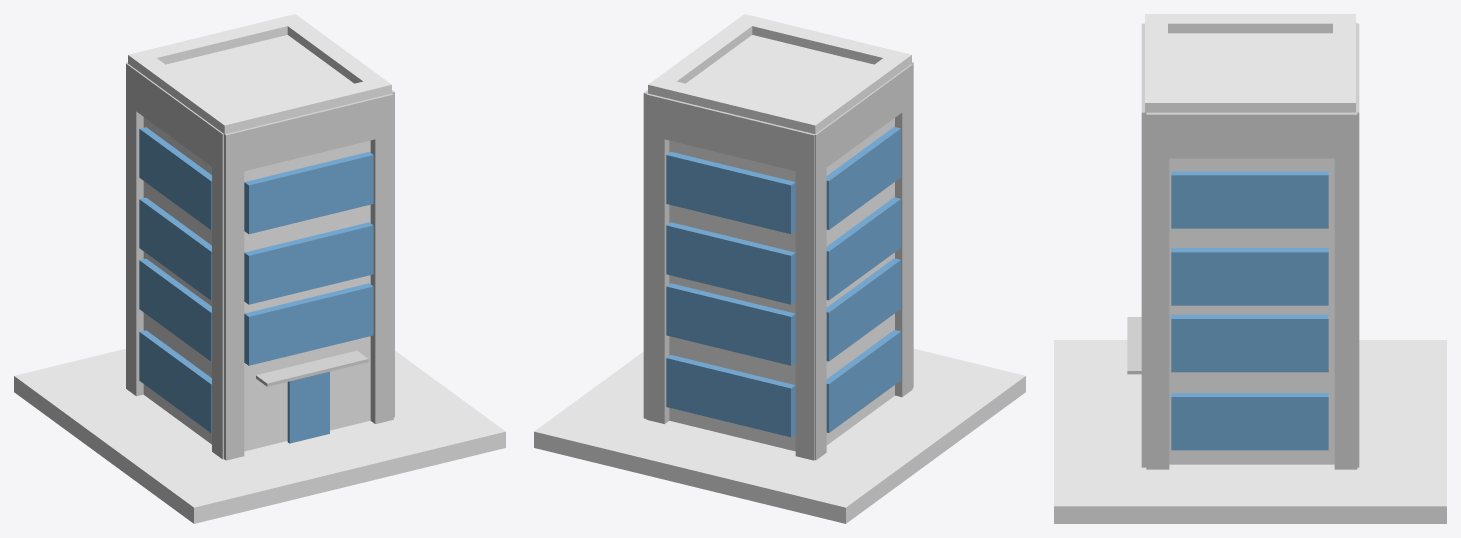
The model's file is building2.glb.
3 renders of one model, left to right at view 1: azimuth 30°, elevation 25°; view 2: azimuth 150°, elevation 25°; view 3: azimuth 270°, elevation 25°, orthographic. The views are drawn at different scales.
Parts seen in each view (by area): view 1: Building; view 2: Building; view 3: Building.
Boxes of the visible parts, x1,y1,x2,y2 form: Building: (14,14,505,523); Building: (534,14,1025,523); Building: (1054,14,1446,523).
Size of the model in its own units: 400 by 467 by 400.
